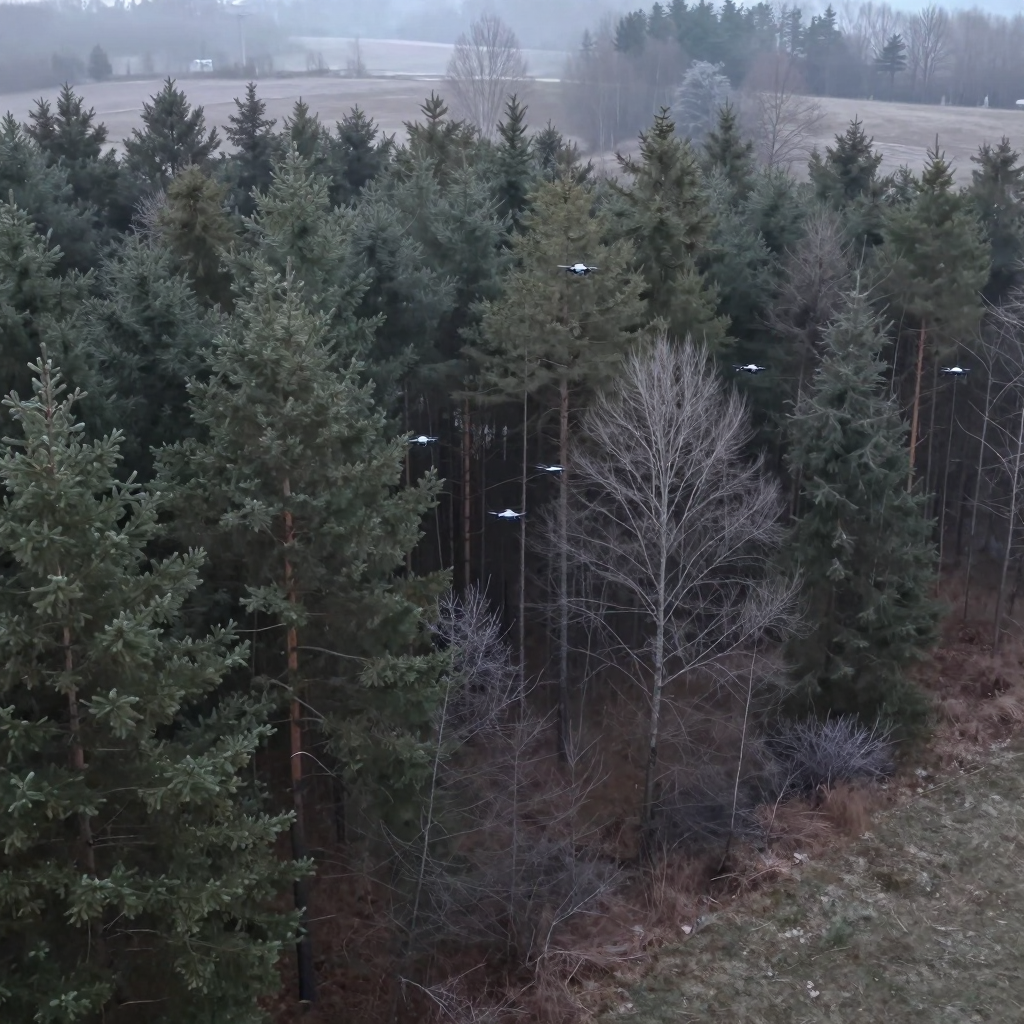drone: (489, 502, 530, 523), (404, 427, 440, 450), (532, 460, 573, 477), (557, 263, 600, 277), (939, 361, 973, 374), (732, 364, 766, 374)
